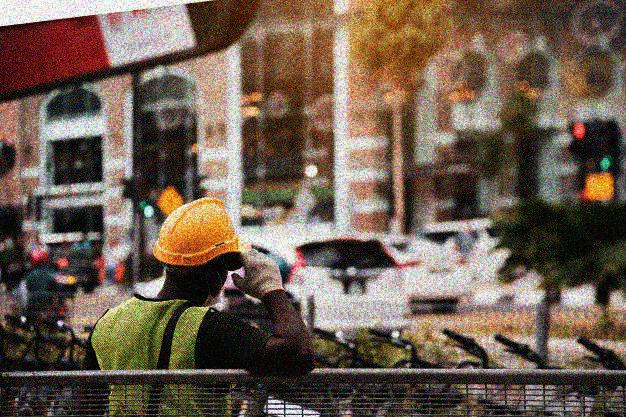helmet: (152, 196, 246, 309)
